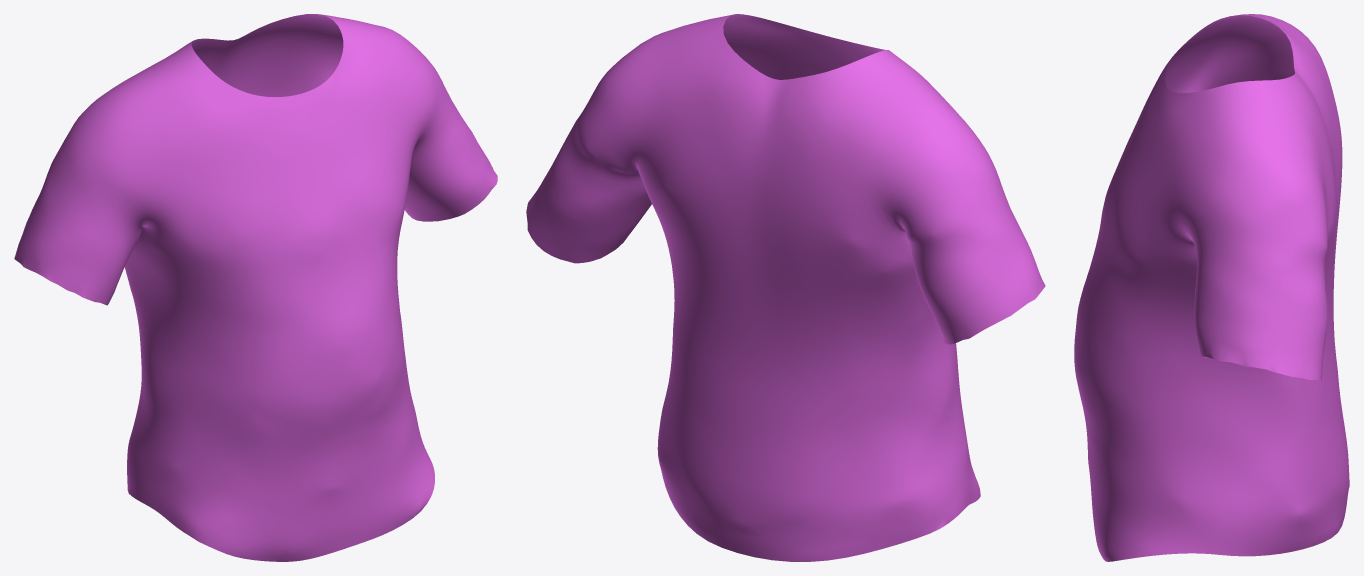
The model's file is Male-X-Large-Tshirt.glb.
3 renders of one model, left to right at view 1: azimuth 30°, elevation 25°; view 2: azimuth 150°, elevation 25°; view 3: azimuth 270°, elevation 25°, orthographic. The views are drawn at different scales.
Parts seen in each view (by area): view 1: Group1.009; view 2: Group1.009; view 3: Group1.009.
Boxes of the visible parts, x1,y1,x2,y2 form: Group1.009: (14,14,497,561); Group1.009: (526,14,1045,561); Group1.009: (1074,14,1349,561).
Bounding box in the file's own units: 1.35 × 1.3 × 0.67.
